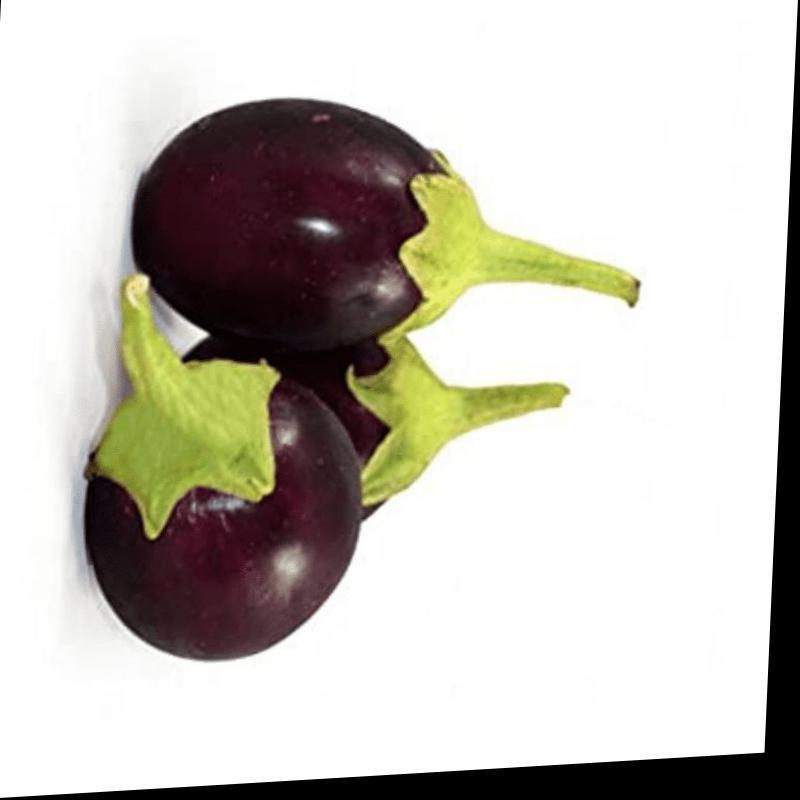eggplant: (77, 178, 634, 658), (60, 278, 415, 704), (120, 40, 558, 375)
